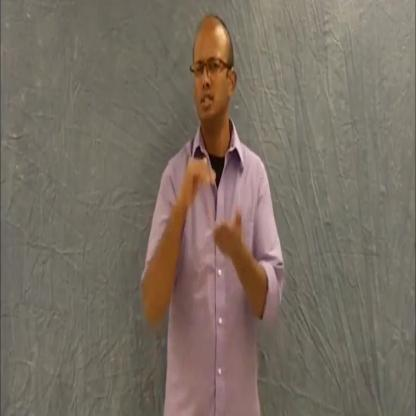ExcuseMe: (182, 145, 245, 272)
